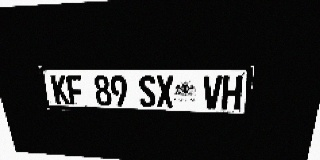8: (93, 75, 112, 106)
9: (110, 75, 128, 106)
F: (66, 75, 85, 105)
H: (221, 76, 243, 110)
K: (50, 75, 70, 105)
S: (138, 75, 156, 107)
V: (202, 76, 223, 109)
X: (156, 75, 174, 108)
